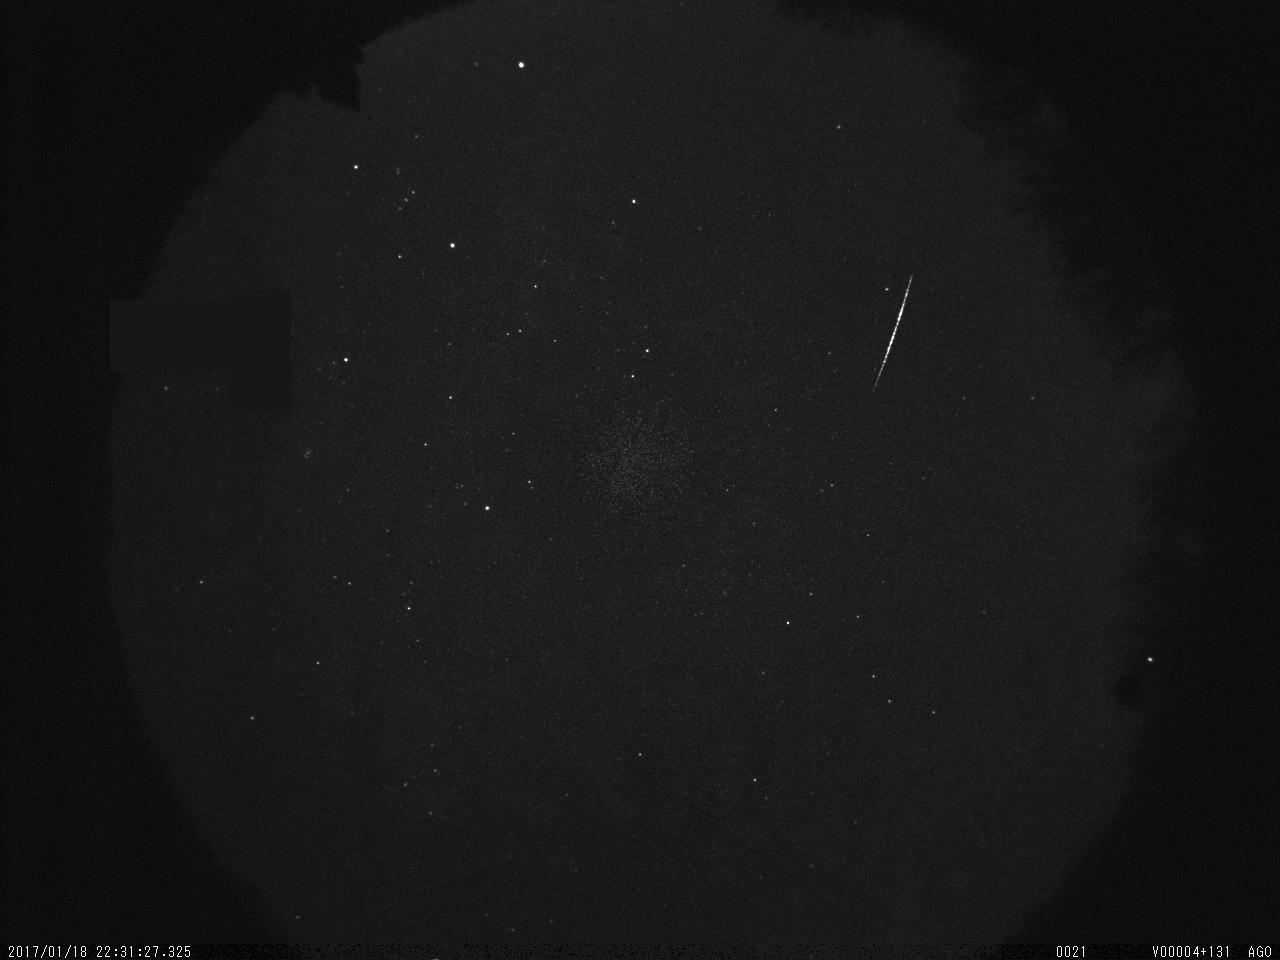meteor: (846, 253, 957, 418)
